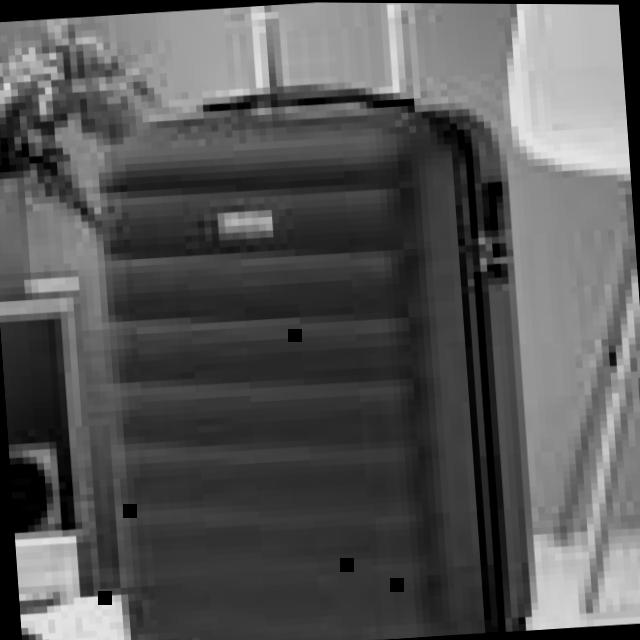luggage: (65, 61, 553, 640)
